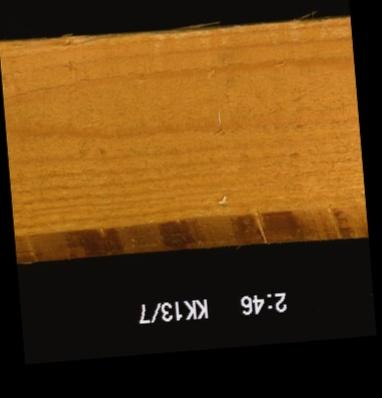wave: (14, 218, 365, 248)
